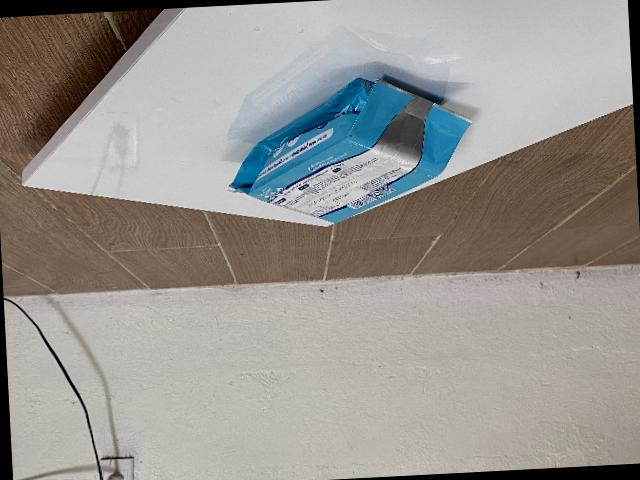Let-green_alcohol_wipes: (225, 76, 473, 223)
